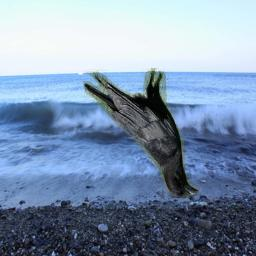Crow: (83, 68, 199, 198)
